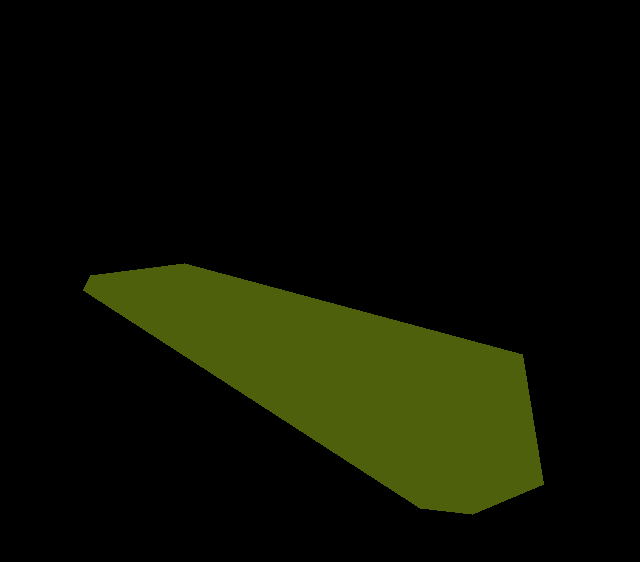Train: (83, 263, 544, 515)
